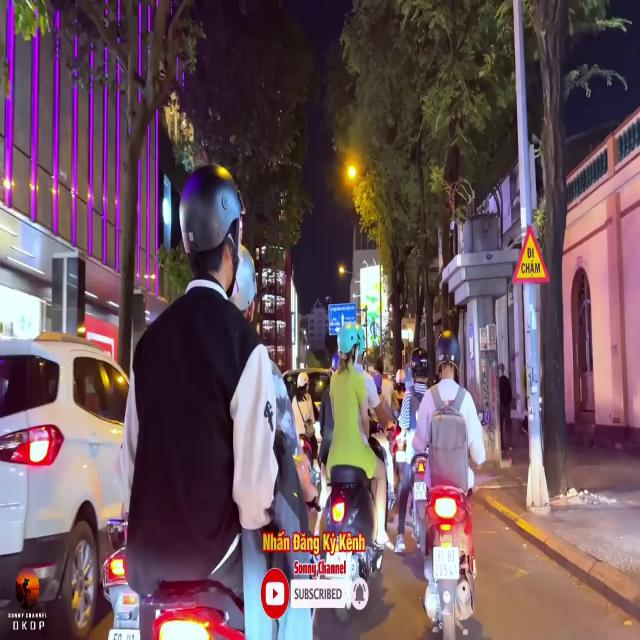bien_trang: (433, 547, 458, 580)
